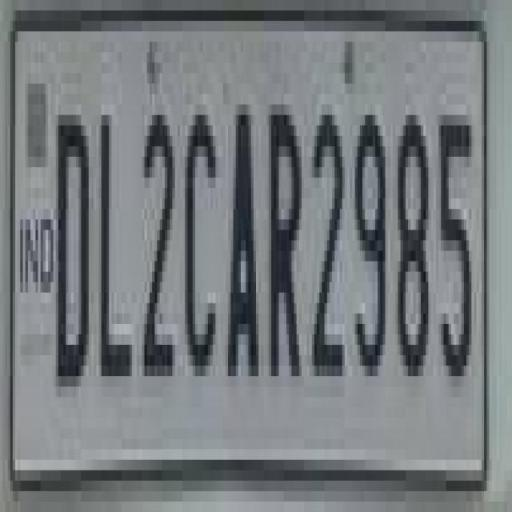number plate: (0, 0, 494, 501)
